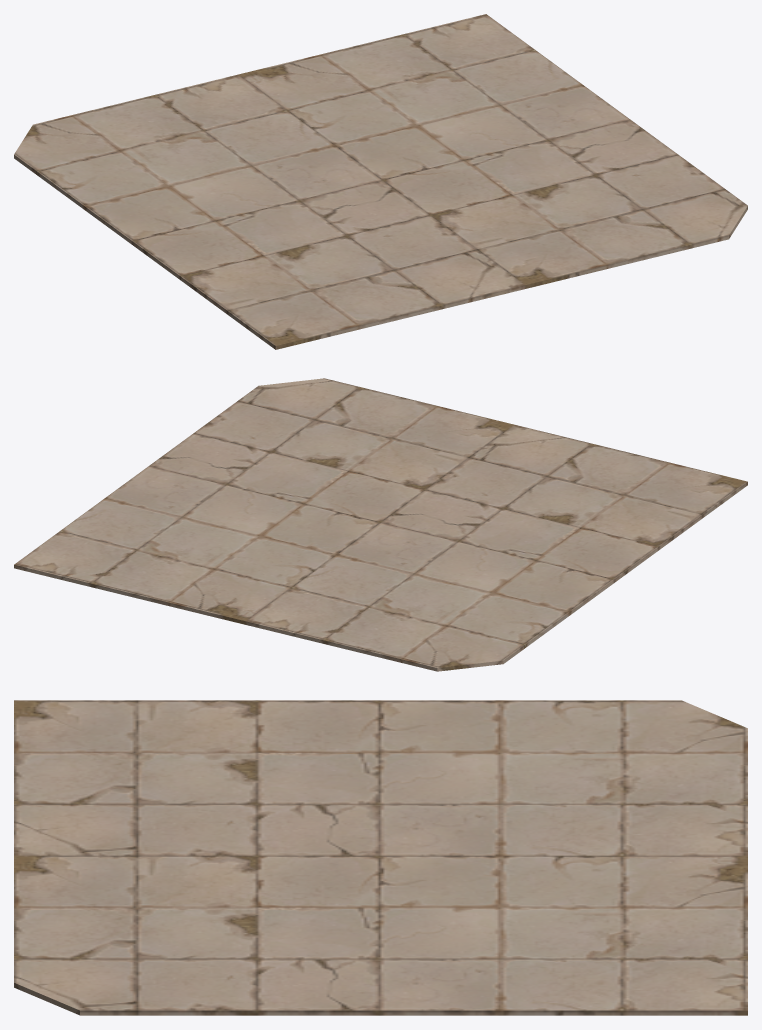
File: Ground02_Terrain_LostTemple_001.FBX
3 renders of one model, top to bottom at view 1: azimuth 30°, elevation 25°; view 2: azimuth 150°, elevation 25°; view 3: azimuth 270°, elevation 25°, orthographic. The views are drawn at different scales.
Visible parts, largest first — view 1: Ground02_Terrain_LostTemple_001; view 2: Ground02_Terrain_LostTemple_001; view 3: Ground02_Terrain_LostTemple_001.
Boxes of the visible parts, <box> form: Ground02_Terrain_LostTemple_001: <box>14,14,747,349</box>; Ground02_Terrain_LostTemple_001: <box>14,378,747,671</box>; Ground02_Terrain_LostTemple_001: <box>14,700,747,1015</box>.
Size of the model in its own units: 702 by 5.24 by 702.
Materials: 1 (1 with a texture image).
